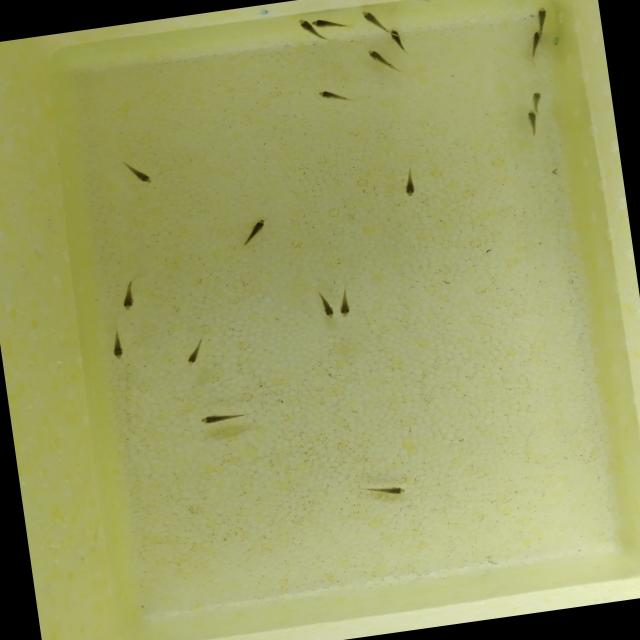fingerling: (232, 214, 276, 252), (355, 476, 413, 503), (117, 156, 159, 192), (362, 46, 402, 80), (197, 406, 253, 430), (178, 332, 212, 370), (114, 274, 145, 314), (314, 84, 358, 108), (105, 324, 131, 364), (396, 163, 424, 200), (312, 13, 354, 35), (315, 286, 337, 324), (336, 284, 356, 320), (525, 30, 548, 60), (359, 8, 384, 30), (524, 109, 542, 139), (296, 16, 316, 42), (387, 26, 407, 46), (534, 5, 550, 28), (528, 89, 546, 108)
